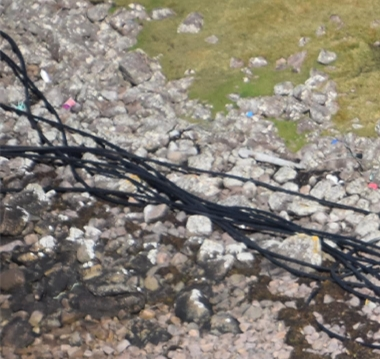more_tube: (238, 179, 380, 350), (1, 25, 114, 195), (115, 140, 256, 243)
straight_bar: (234, 142, 310, 176)
